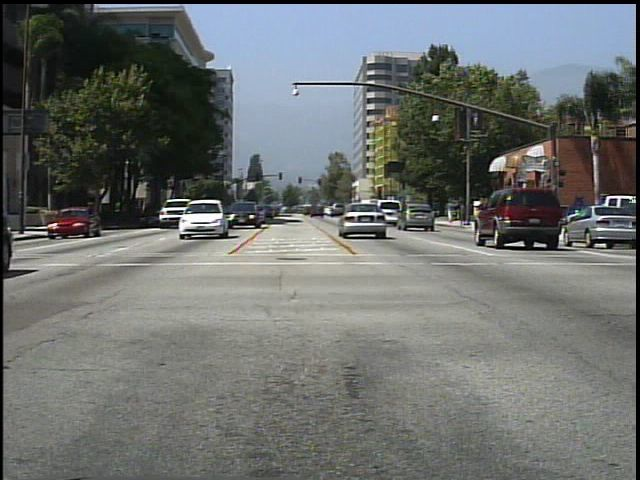person: (483, 195, 502, 229), (445, 195, 458, 224)
